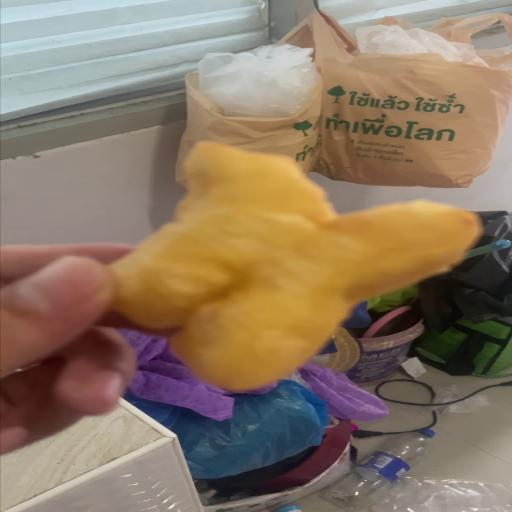street_golden_good: (107, 143, 482, 390)
